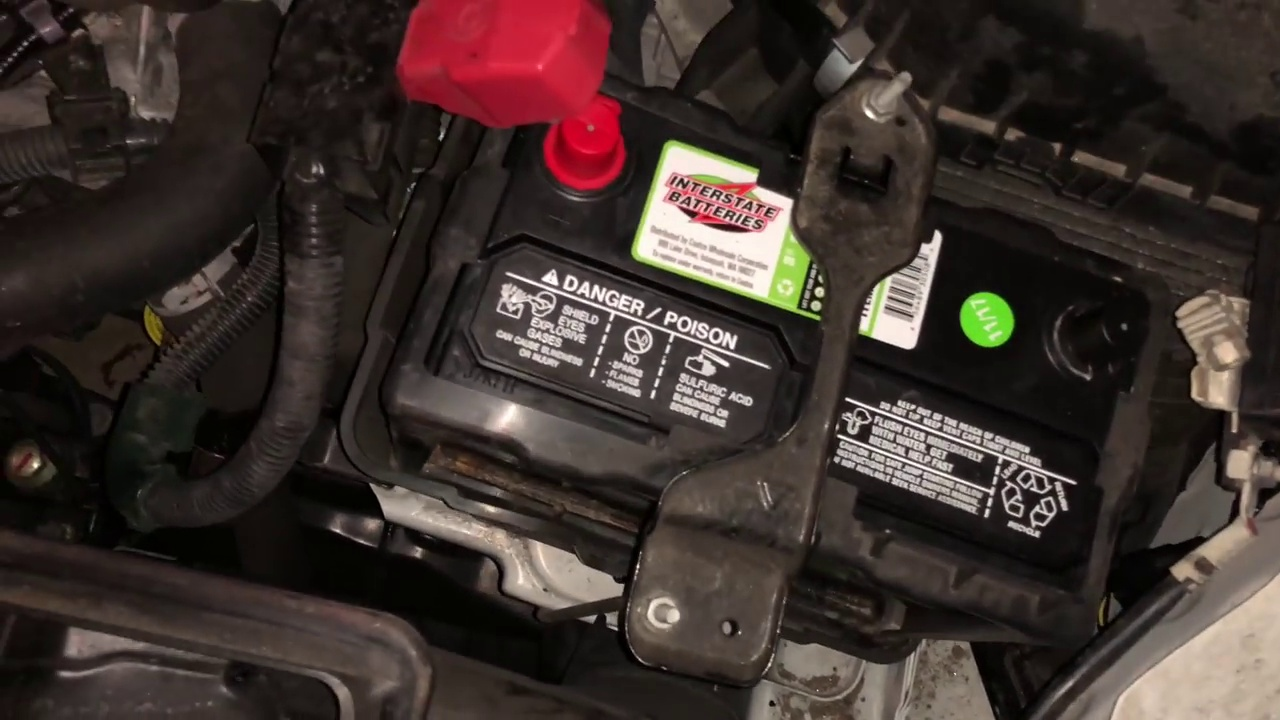battery: (422, 21, 1138, 608)
neg_disconnected: (410, 14, 639, 193)
